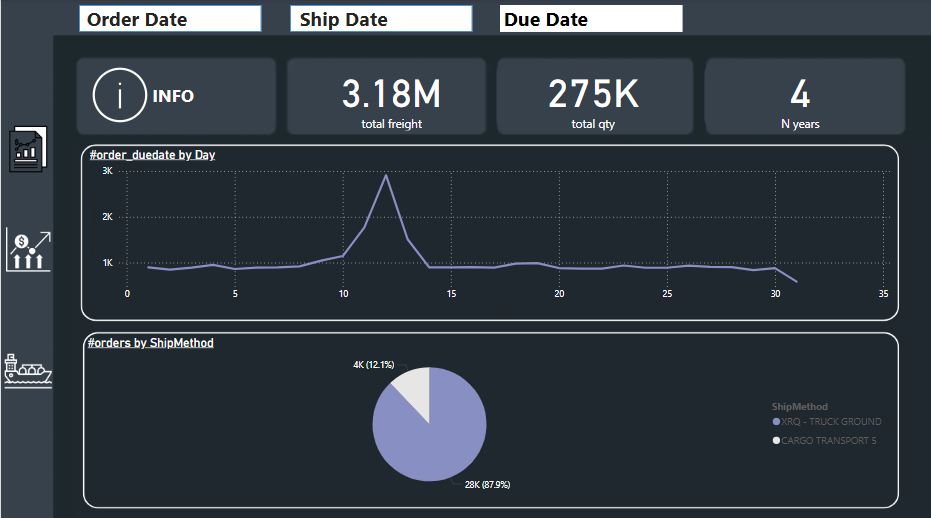

The page's visual inventory and layout, read from the dashboard file:
{"tool":"powerbi","page":{"name":"Page 3","canvas":[1280,720],"ordinal":2},"visuals":[{"type":"lineChart","fields":{"Category":["date.Date.Variation.Date Hierarchy.Year","date.Date.Variation.Date Hierarchy.Quarter","date.Date.Variation.Date Hierarchy.Month","date.Date.Variation.Date Hierarchy.Day"],"Y":["my measures.#order_duedate"]},"box":[117.2,204.4,1112.1,229.7],"z":0},{"type":"pieChart","fields":{"Category":["vw_DimShipMethods.ShipMethod"],"Y":["my measures.#orders"]},"box":[114.9,462.3,1111.6,227.1],"z":1000},{"type":"card","fields":{"Values":["my measures.total freight"]},"box":[401.4,79.9,272.4,106.5],"z":2000},{"type":"card","fields":{"Values":["my measures.total qty"]},"box":[673.8,79.9,280.6,106.5],"z":3000},{"type":"card","fields":{"Values":["total customers.N years"]},"box":[968.7,79.9,262.1,106.5],"z":6000},{"type":"image","box":[0,165.7,74.8,82.8],"z":7000},{"type":"image","box":[0,304.6,74.8,80.2],"z":8000},{"type":"image","box":[0,470.3,74.8,82.8],"z":9000},{"type":"shape","box":[686.8,8,251.2,37.4],"z":10000},{"type":"shape","box":[398.2,8,251.2,37.4],"z":11000},{"type":"shape","box":[106.9,8,251.2,37.4],"z":12000},{"type":"textbox","box":[687,3.4,146.1,63.8],"z":13000},{"type":"textbox","box":[406.5,3.4,161.3,60.5],"z":14000},{"type":"textbox","box":[112.2,2.7,176.4,64.1],"z":15000},{"type":"actionButton","box":[117.6,85.5,240.5,93.5],"z":16000}]}

Visuals, with their boxes in screenshot pixels (x1, y1, x2, y2):
lineChart - date.Date.Variation.Date Hierarchy.Year x date.Date.Variation.Date Hierarchy.Quarter: bbox=[79, 148, 898, 317]
pieChart - vw_DimShipMethods.ShipMethod x my measures.#orders: bbox=[77, 338, 896, 506]
card - my measures.total freight: bbox=[288, 56, 489, 135]
card - my measures.total qty: bbox=[489, 56, 696, 135]
card - total customers.N years: bbox=[706, 56, 900, 135]
image: bbox=[0, 120, 48, 181]
image: bbox=[0, 222, 48, 281]
image: bbox=[0, 344, 48, 405]
shape: bbox=[499, 3, 684, 31]
shape: bbox=[286, 3, 471, 31]
shape: bbox=[71, 3, 257, 31]
textbox: bbox=[499, 0, 607, 47]
textbox: bbox=[292, 0, 411, 45]
textbox: bbox=[75, 0, 205, 47]
actionButton: bbox=[79, 61, 257, 129]
